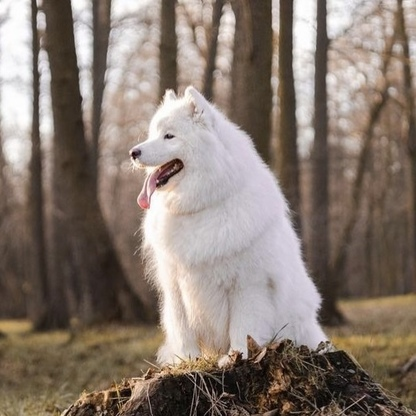samoyed: (124, 82, 338, 374)
